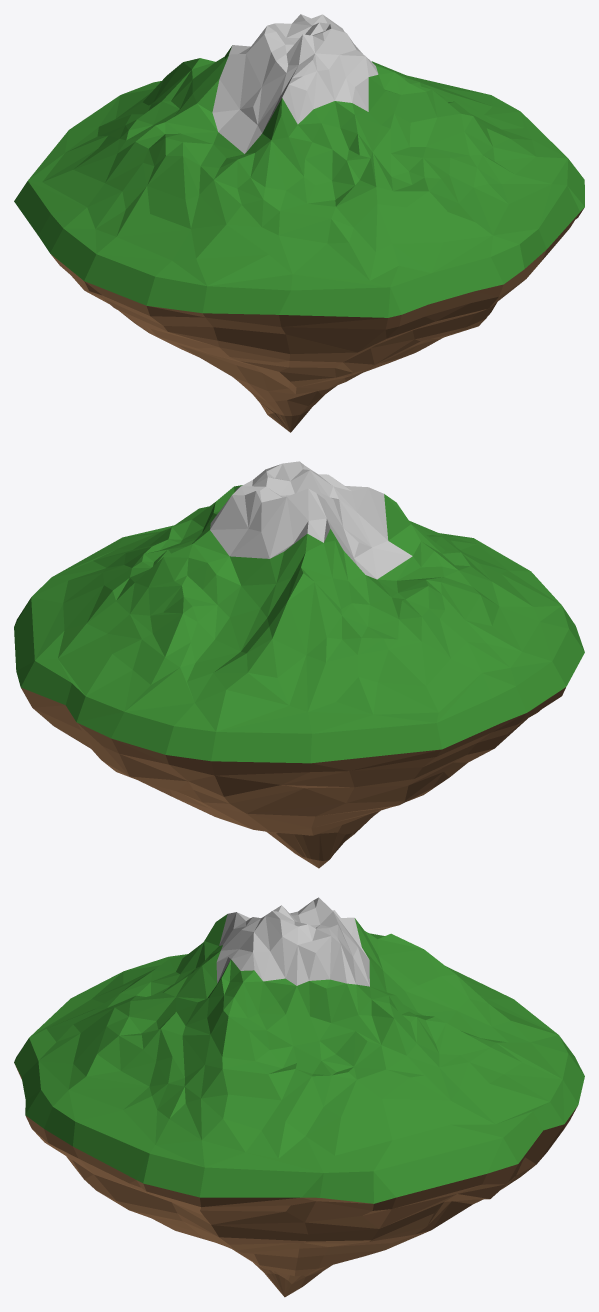
File: mountaint2.fbx
3 views of the same model, one above another, from view 1: azimuth 30°, elevation 25°; view 2: azimuth 150°, elevation 25°; view 3: azimuth 270°, elevation 25° (orthographic).
Parts seen in each view (by area): view 1: Landscape.002; view 2: Landscape.002; view 3: Landscape.002.
Part boxes in pixels (x1,y1,x2,y2): Landscape.002: (14,14,584,432); Landscape.002: (14,461,584,868); Landscape.002: (14,897,584,1297).
Size of the model in its own units: 8394 by 6566 by 8512.
